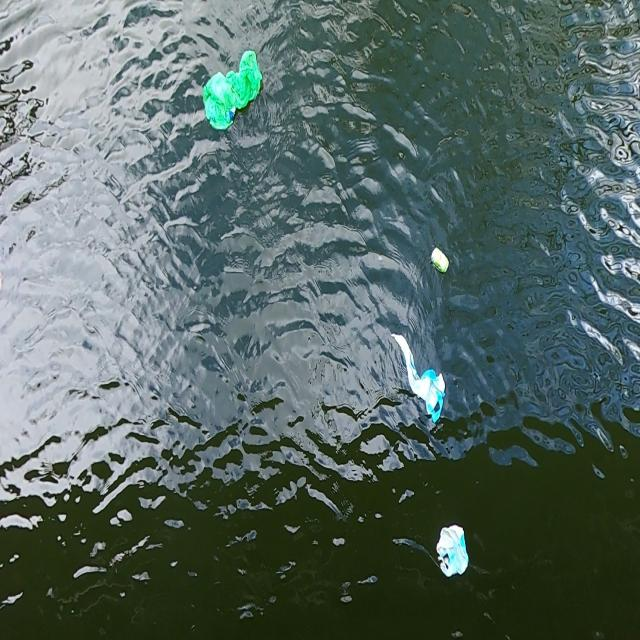Non plastique: (429, 244, 452, 279)
Sac plastique: (198, 43, 266, 138), (389, 328, 448, 424), (431, 520, 477, 582)
